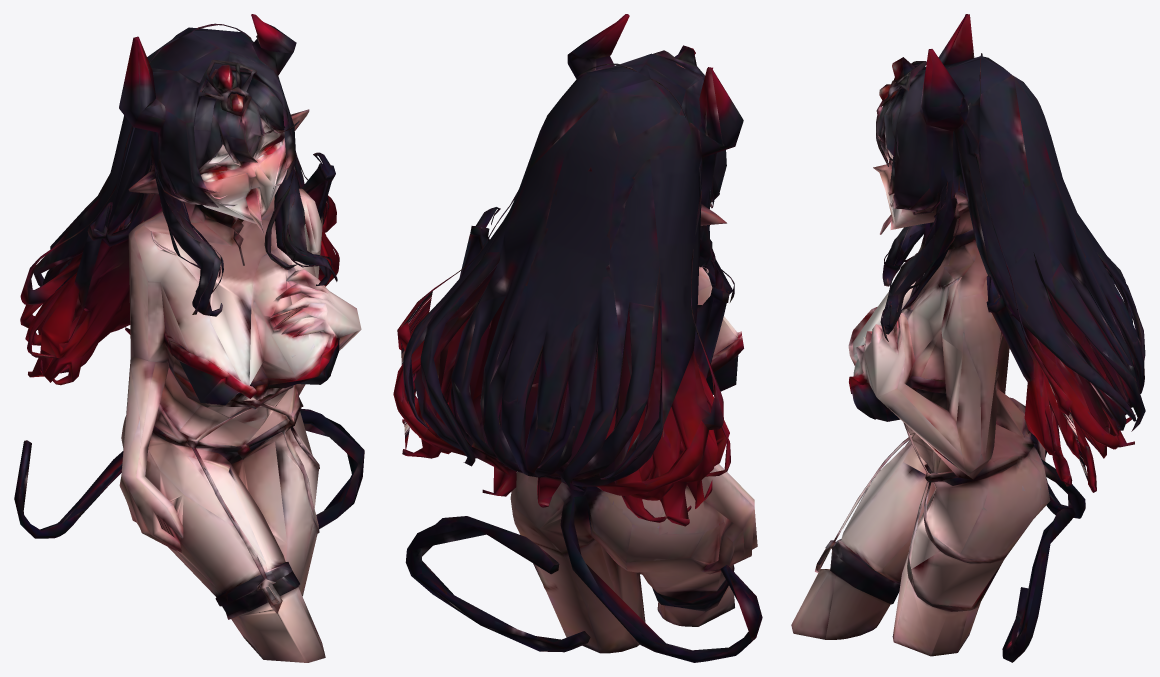
3 renders of one model, left to right at view 1: azimuth 30°, elevation 25°; view 2: azimuth 150°, elevation 25°; view 3: azimuth 270°, elevation 25°, orthographic. The views are drawn at different scales.
Parts seen in each view (by area): view 1: node_0; view 2: node_0; view 3: node_0.
Boxes of the visible parts, box(x1,y1,x2,y2) form: node_0: box(14, 14, 364, 662); node_0: box(393, 14, 762, 662); node_0: box(791, 14, 1145, 662).
Bounding box in the file's own units: 0.6373 × 1.05 × 0.5803.
Materials: 1 (1 with a texture image).
